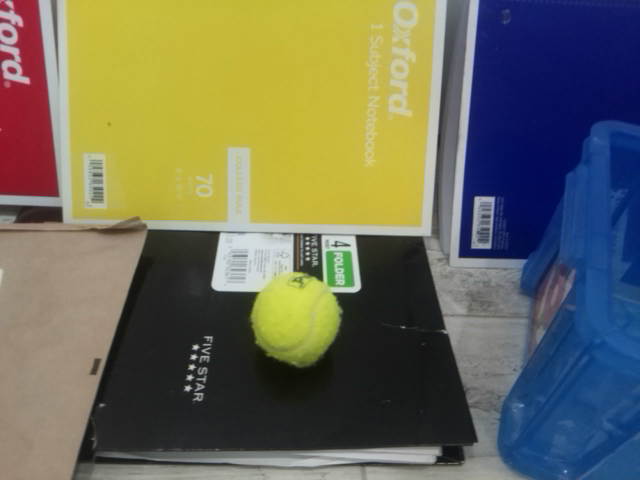yellow-ball: (249, 271, 343, 368)
